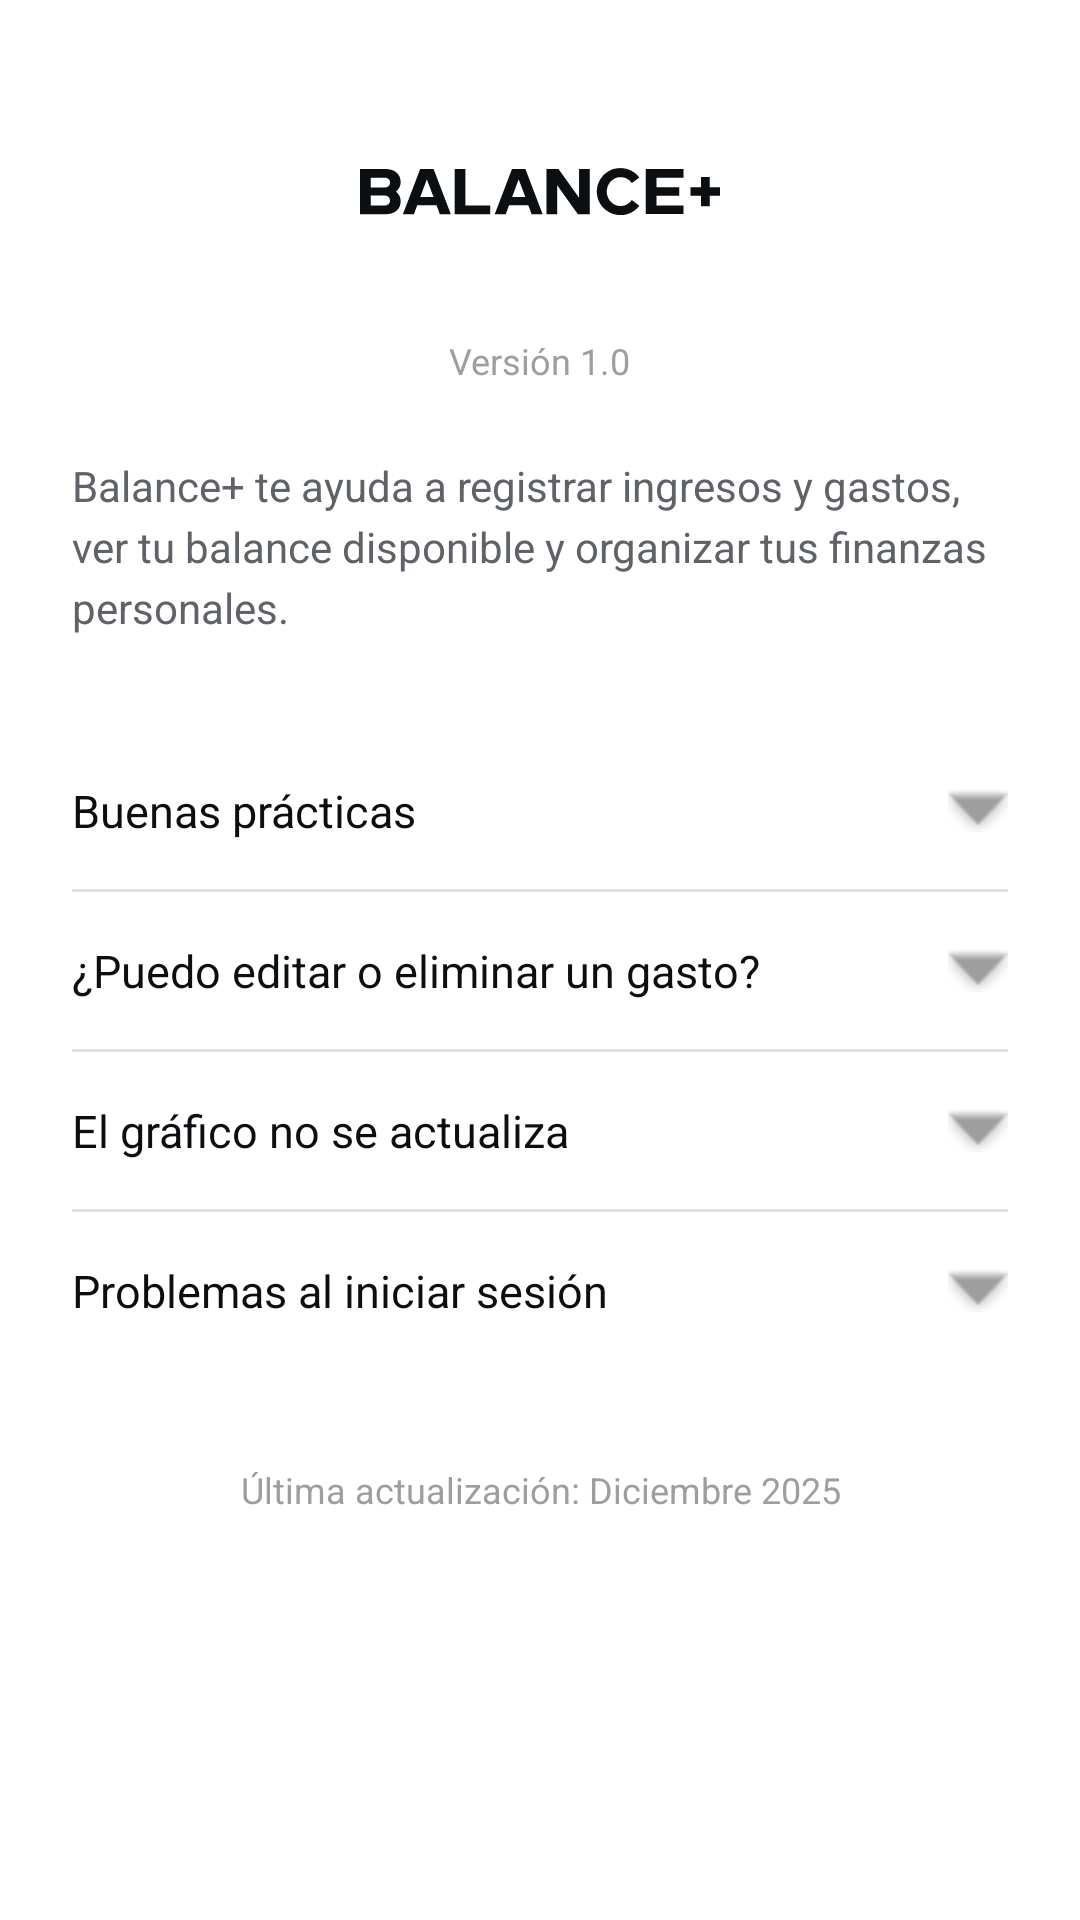

Named icons in this screenshot (1080x1920) and their centers, point (x, y):
arrow down float: point (978, 809), point (978, 969), point (978, 1129), point (978, 1289)
